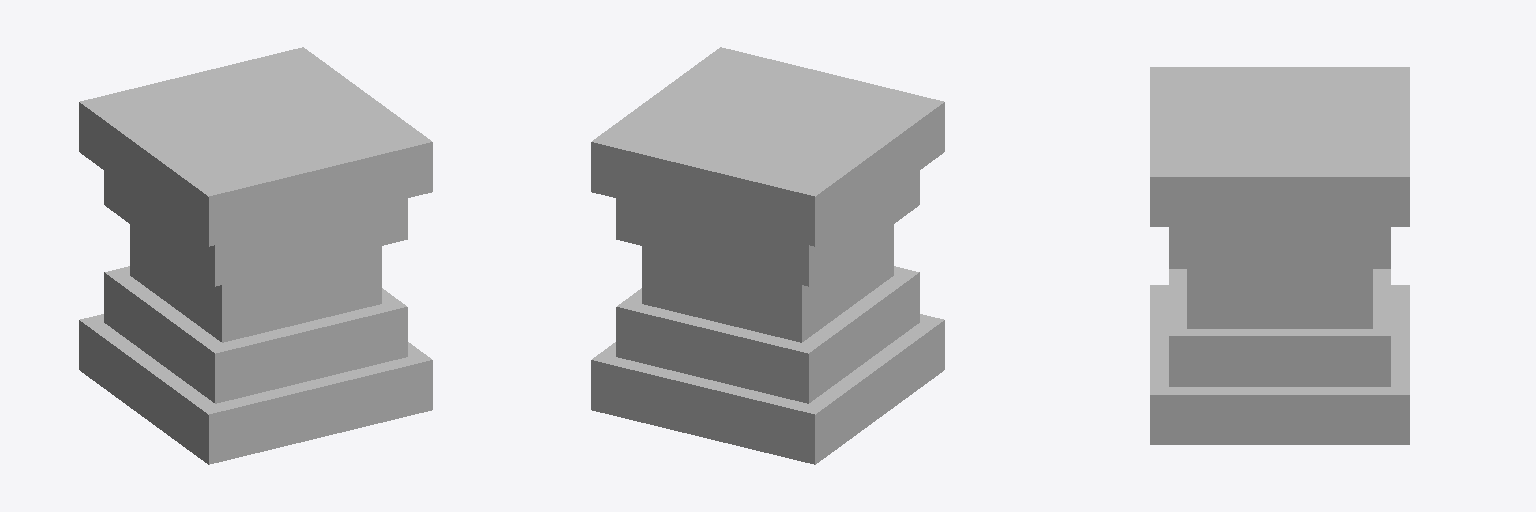
File: thelimit_thin_pillar_small.obj
The picture shows the model from 3 angles: view 1: azimuth 30°, elevation 25°; view 2: azimuth 150°, elevation 25°; view 3: azimuth 270°, elevation 25°; orthographic projection.
Parts seen in each view (by area): view 1: cube.004; view 2: cube.004; view 3: cube.004.
Boxes of the visible parts, <box> form: cube.004: <box>79,47,432,464</box>; cube.004: <box>591,47,944,464</box>; cube.004: <box>1150,67,1409,444</box>.
Bounding box in the file's own units: 0.875 × 1 × 0.875.